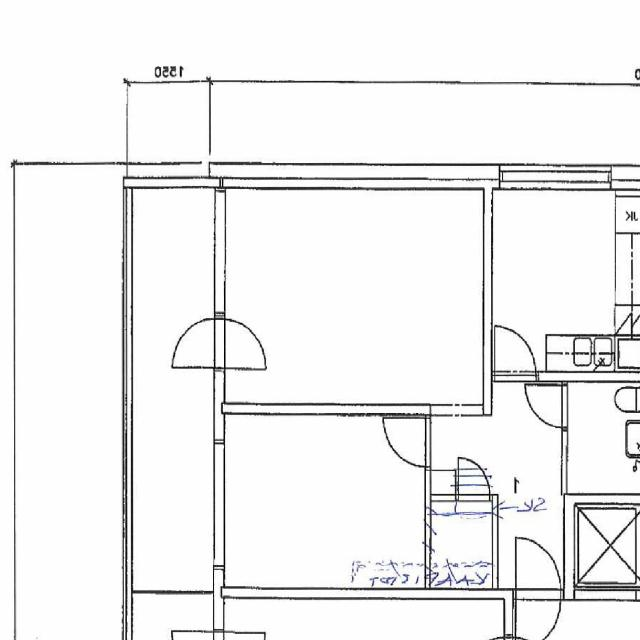door: (170, 318, 227, 367), (213, 318, 269, 367), (516, 536, 560, 598), (383, 418, 431, 466), (495, 325, 536, 381), (516, 588, 560, 640), (526, 384, 570, 427)
